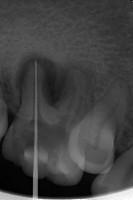Dental Caries: (15, 53, 97, 106)
